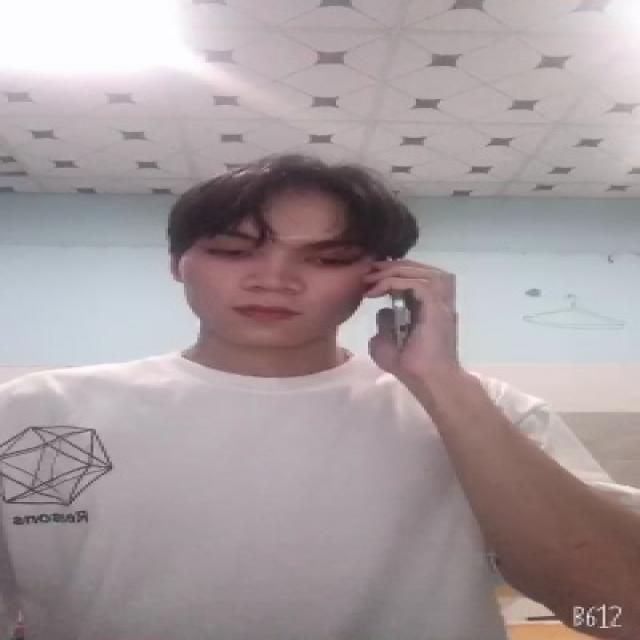Phone: (382, 255, 429, 354)
